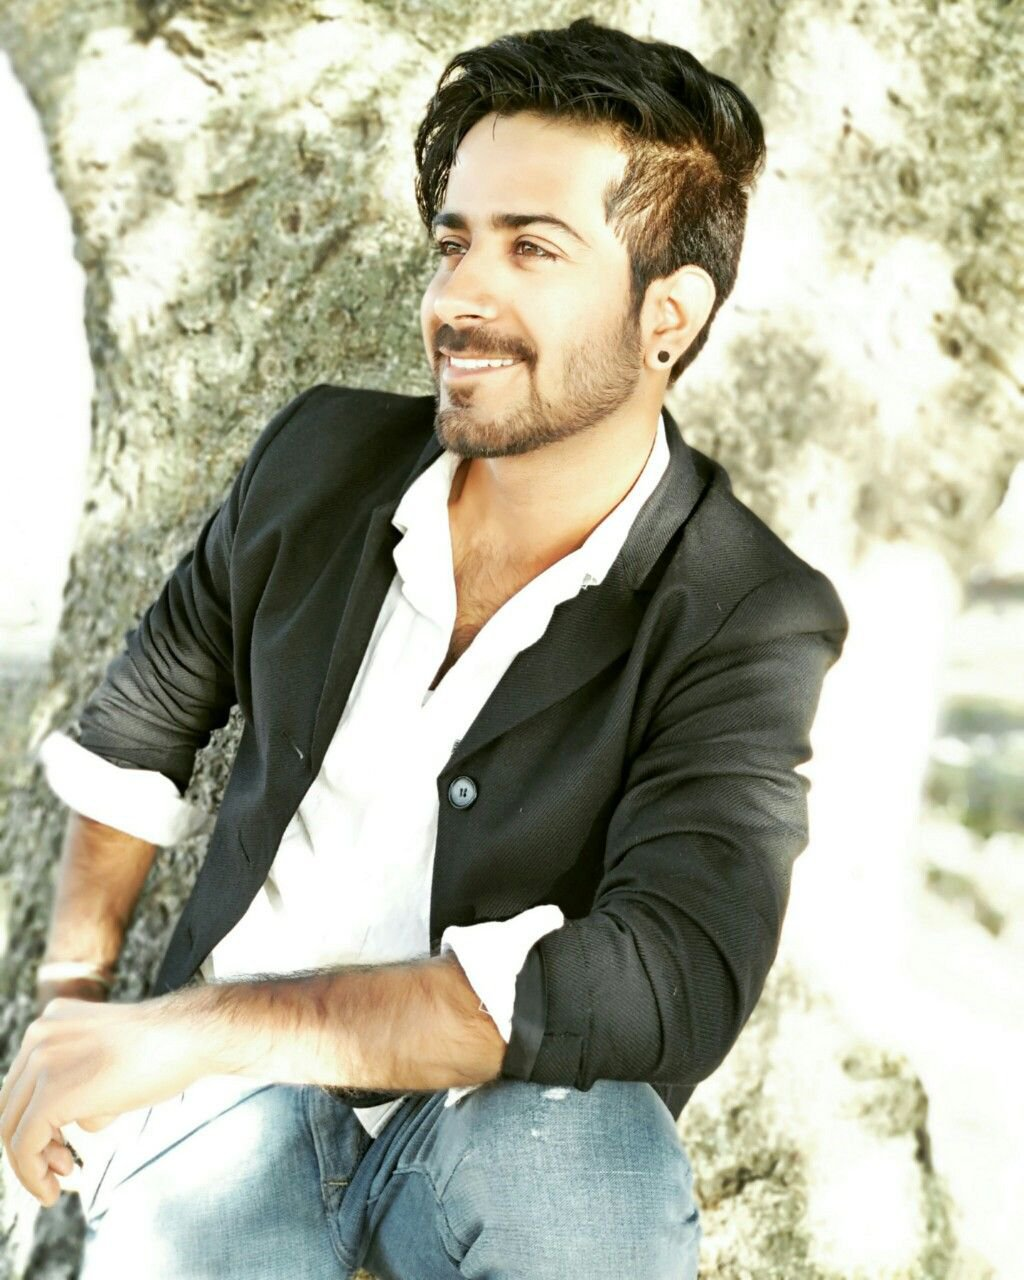noMask: (377, 26, 749, 475)
